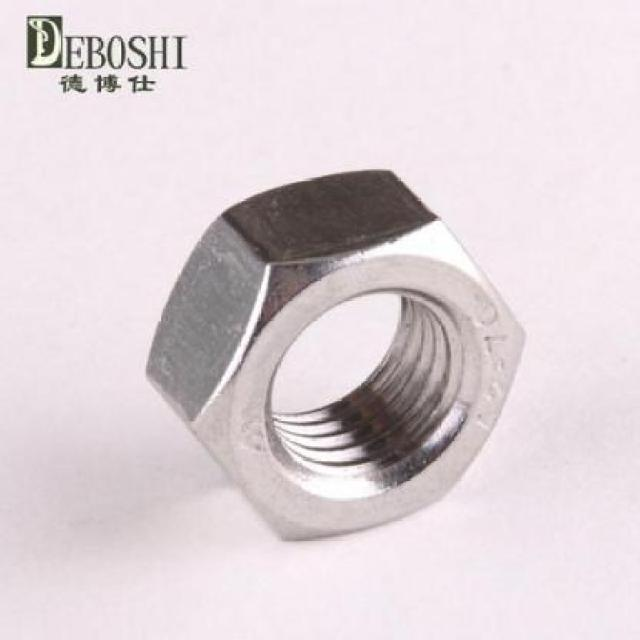Nut: (145, 166, 528, 545)
